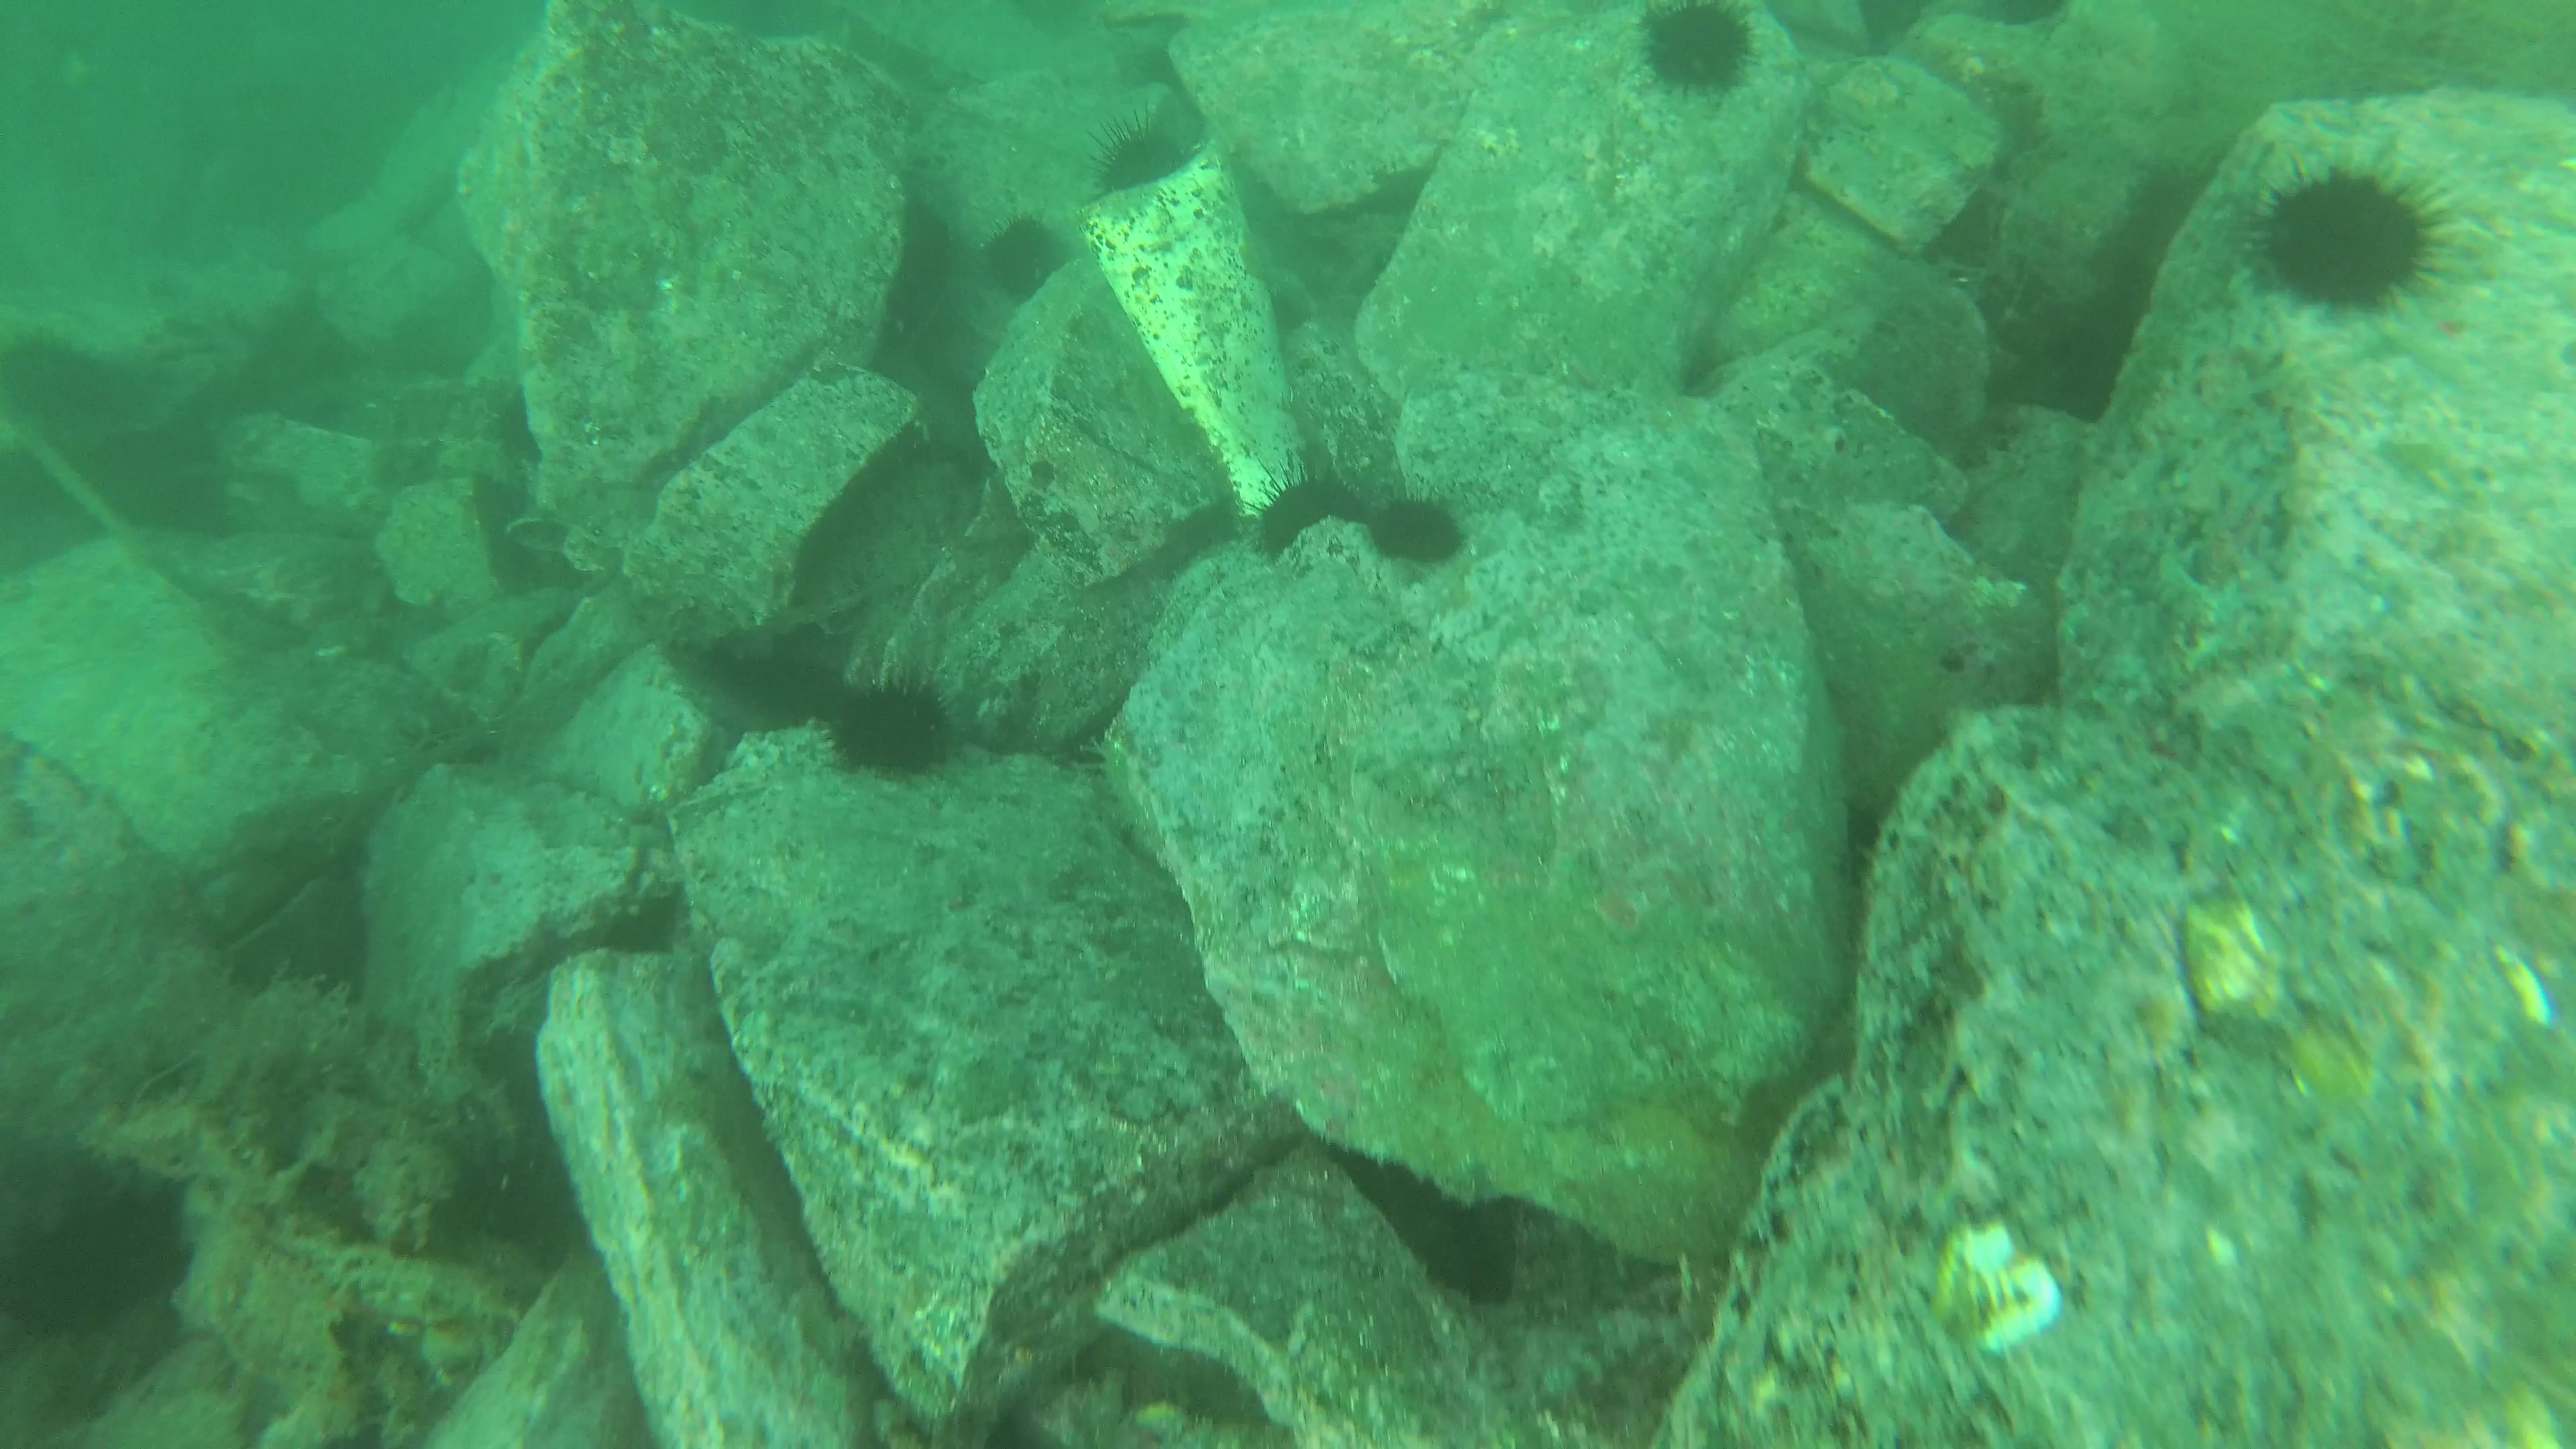echinus: (7, 1184, 189, 1330), (2261, 172, 2443, 313), (1640, 5, 1762, 106), (1254, 469, 1368, 564), (840, 681, 952, 777), (1371, 494, 1467, 579), (1093, 126, 1185, 205), (985, 216, 1070, 299)
